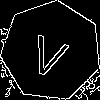V: (26, 26, 73, 80)
